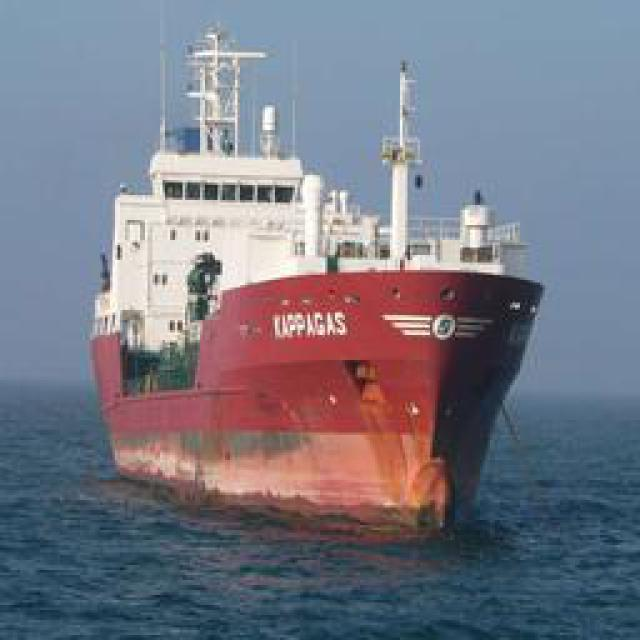Ship: (87, 124, 547, 524)
